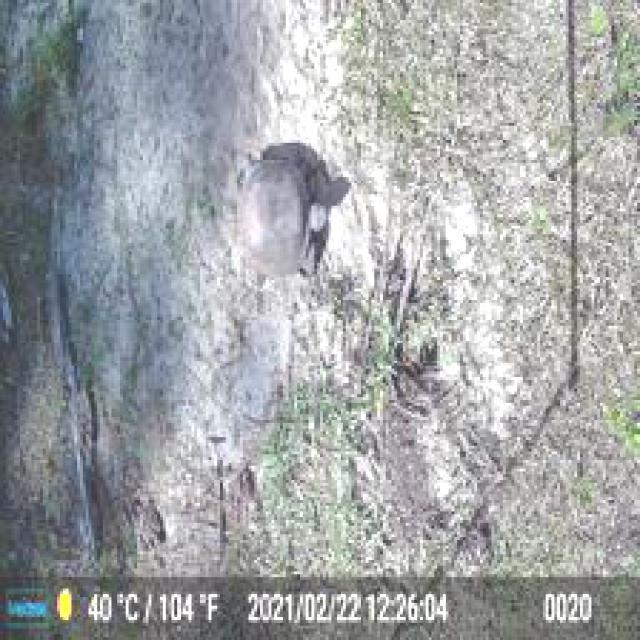tortoise: (234, 151, 328, 279)
